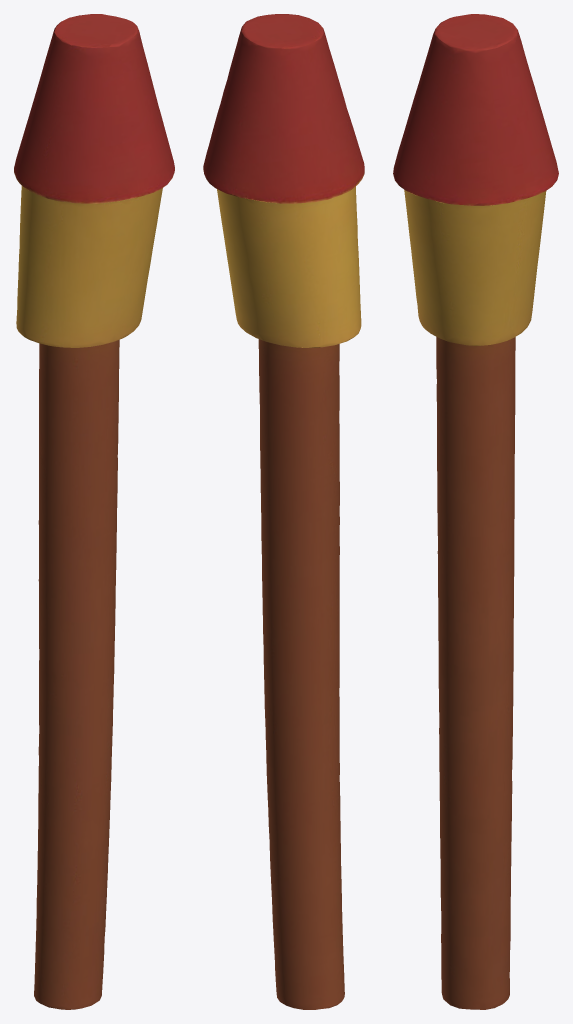
File: brush.glb
3 renders of one model, left to right at view 1: azimuth 30°, elevation 25°; view 2: azimuth 150°, elevation 25°; view 3: azimuth 270°, elevation 25°, orthographic. The views are drawn at different scales.
Parts seen in each view (by area): view 1: brush; view 2: brush; view 3: brush.
Boxes of the visible parts, <box> form: brush: <box>14,14,174,1009</box>; brush: <box>203,14,364,1009</box>; brush: <box>393,14,558,1009</box>.
Size of the model in its own units: 0.0898 by 0.5852 by 0.0898.
1 material, 1 textured.
